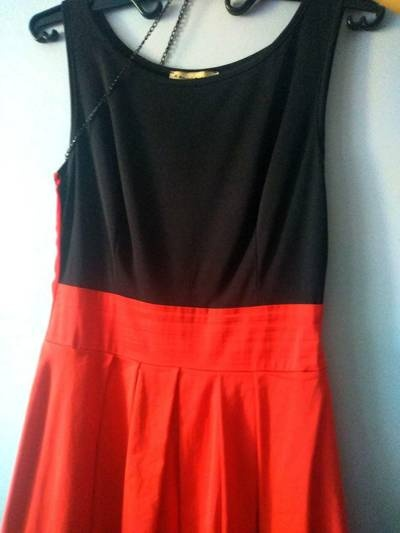Dress: (0, 8, 359, 533)
